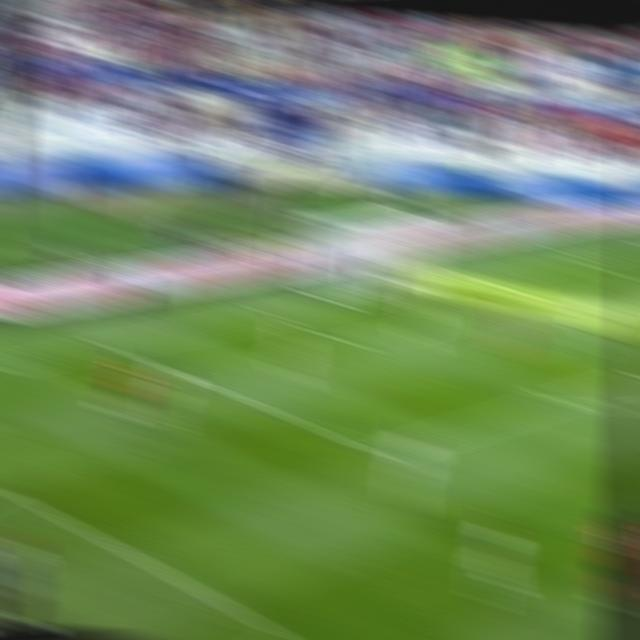bigarea_bottom_inner: (359, 437, 403, 472)
bigarea_bottom_outter: (93, 331, 133, 359)
bigarea_top_outter: (558, 249, 592, 271)
bottom_arc_area_intersection: (538, 384, 582, 415)
smallarea_bottom_inner: (331, 327, 370, 357)
smallarea_bottom_outter: (256, 302, 296, 330)
smallarea_top_inner: (526, 288, 565, 312)
smallarea_top_outter: (457, 266, 495, 290)
